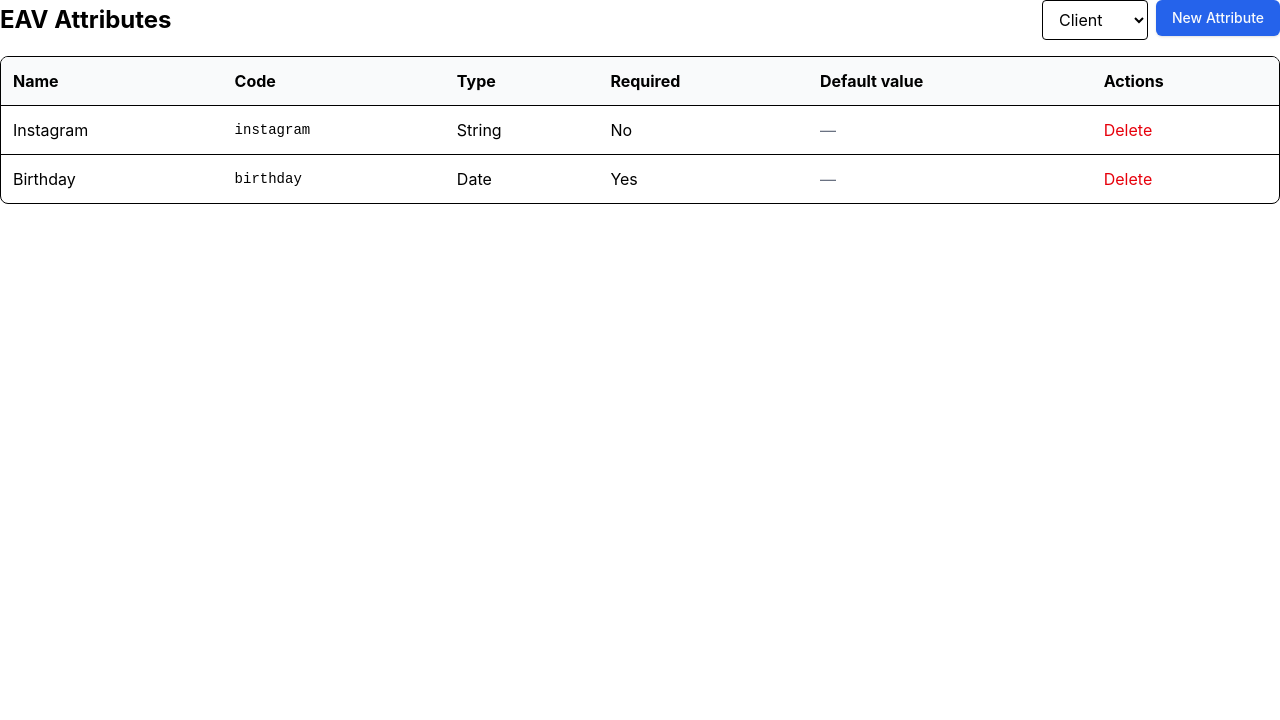
Scenario: EavAttributeList navigation regression › opens the create dialog when New Attribute is clicked
Click the button "New Attribute" at (1218,18), box [1156,0,1279,36]
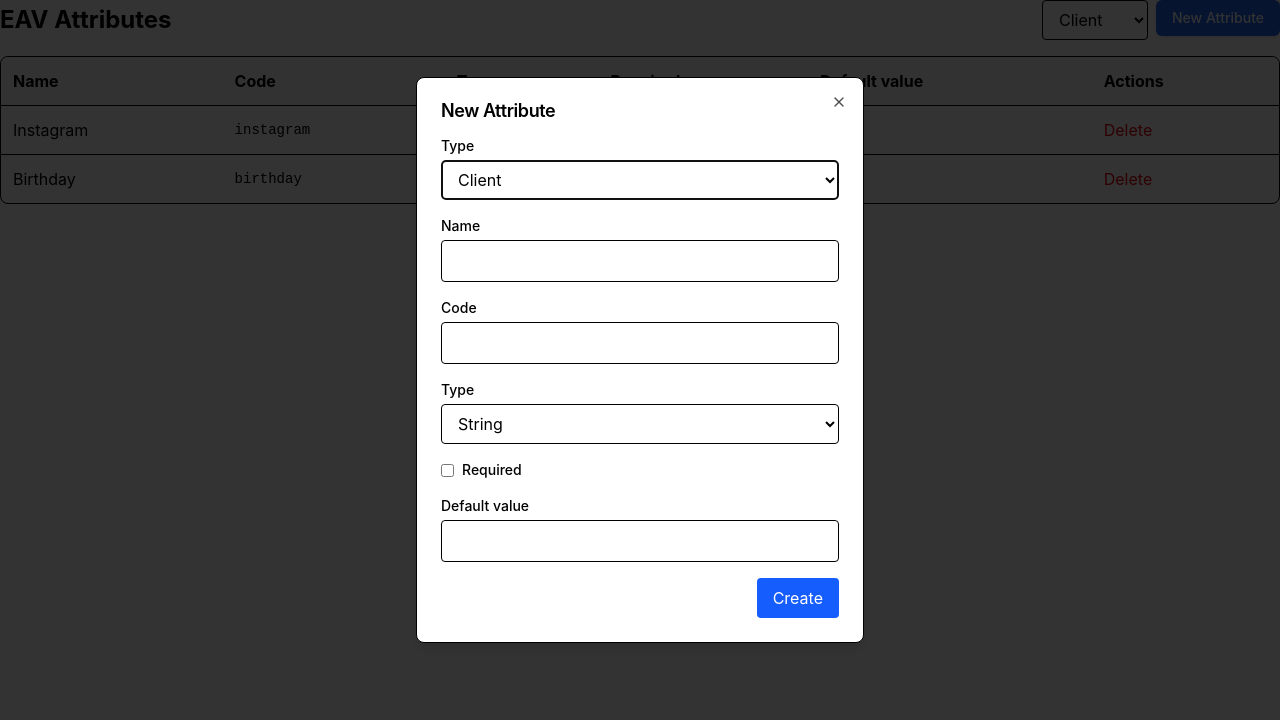
Result: the dialog is shown at [416,77,864,643]
Result: the field labelled "Name" is shown at [441,240,839,282]
